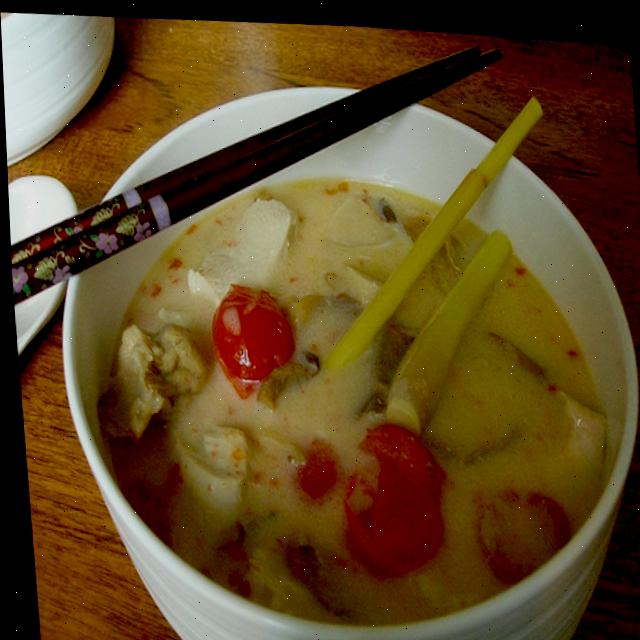汤锅炖物: (20, 21, 640, 640)
